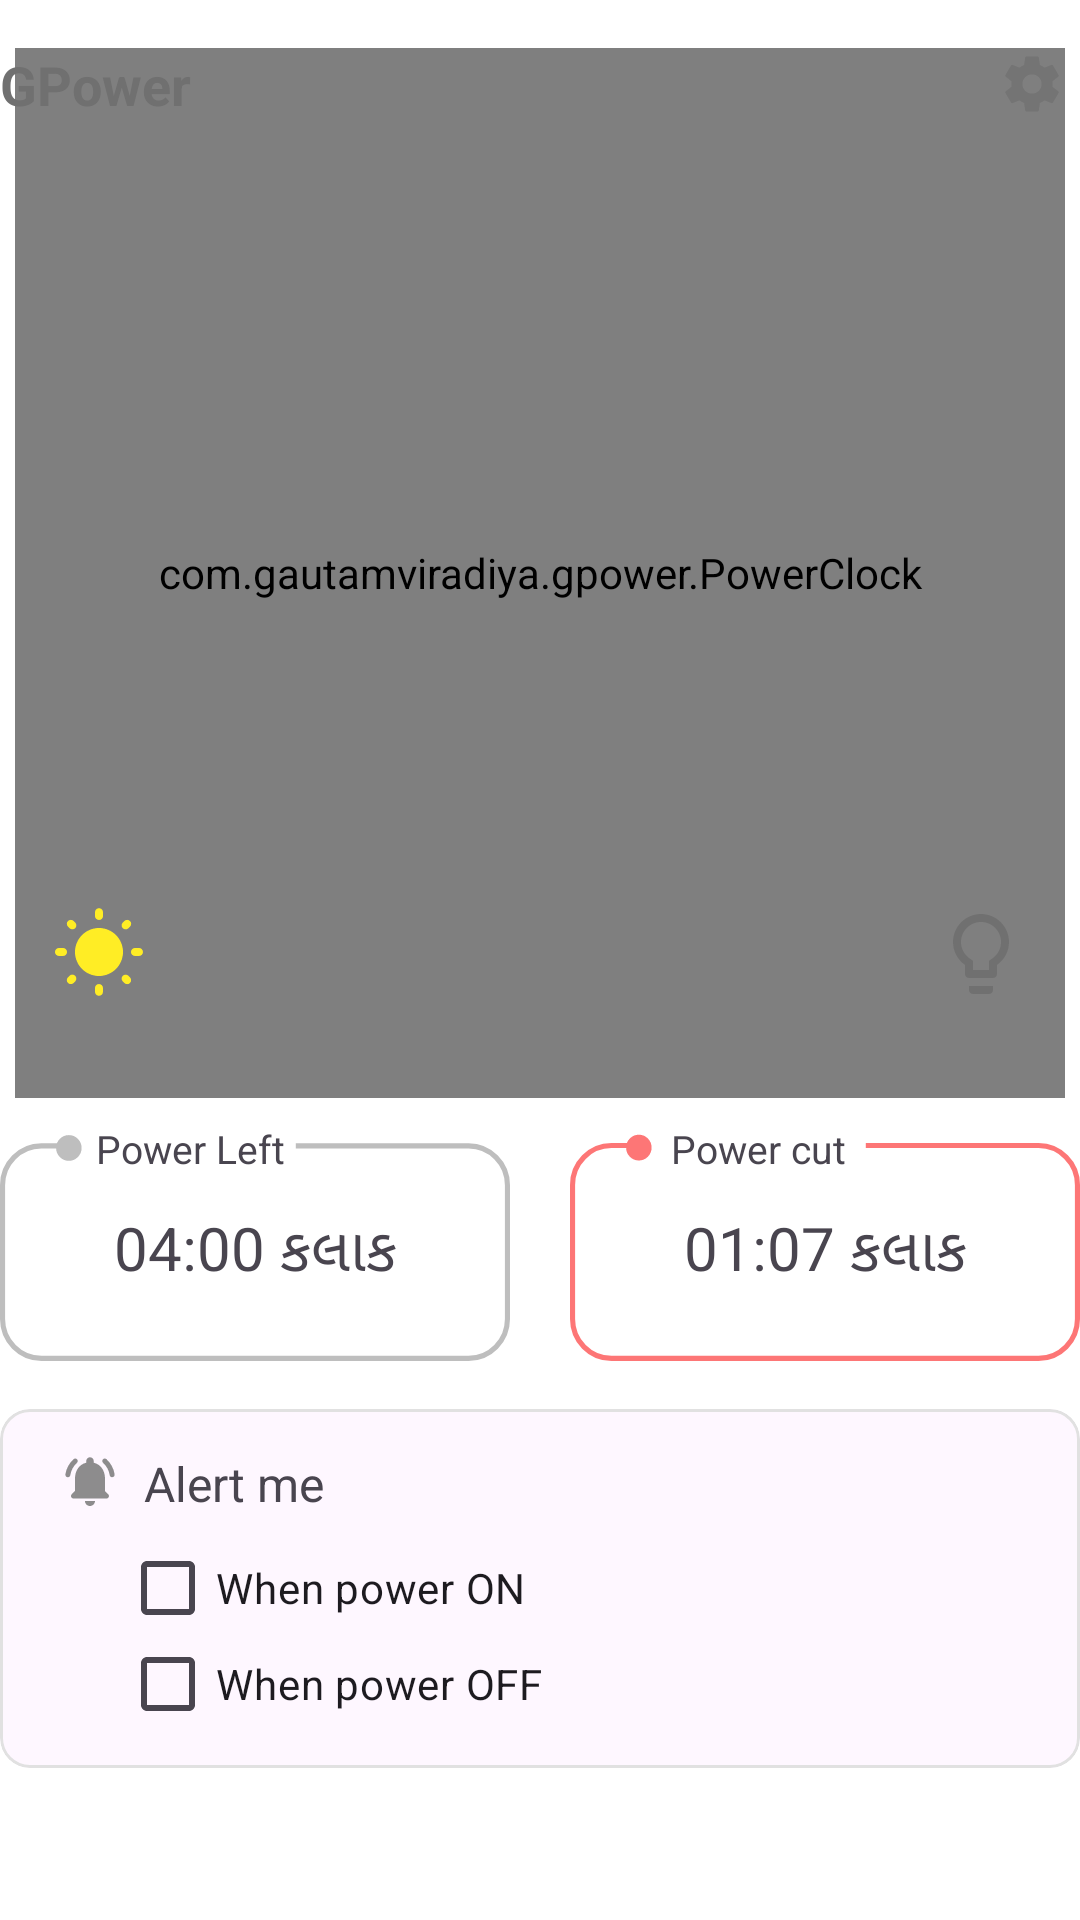

Icons on this 1080×1920 Android screen, each with the point to tap as (x=x, y=y):
day or night: (x=99, y=952)
notification: (x=90, y=1481)
